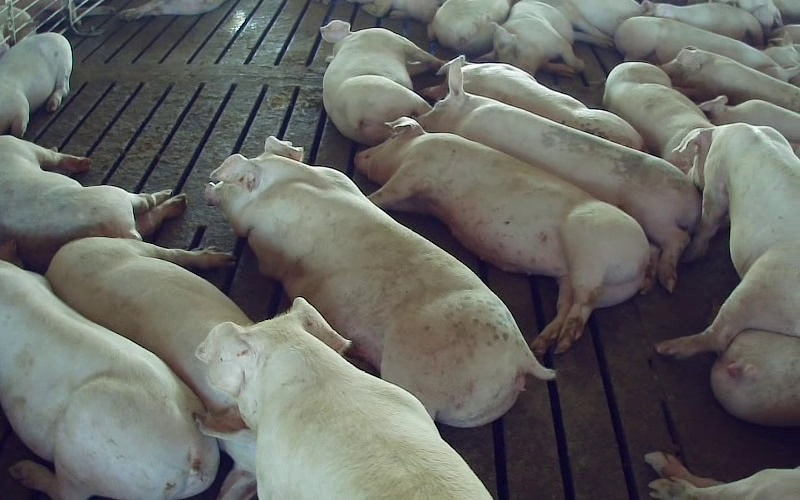pig: (207, 137, 553, 426), (356, 117, 650, 352), (419, 59, 700, 291), (197, 298, 490, 499), (46, 238, 255, 499), (657, 123, 799, 357), (462, 63, 643, 148), (321, 20, 441, 145), (603, 62, 712, 170), (614, 16, 788, 80), (479, 0, 612, 74), (661, 46, 799, 112), (0, 33, 71, 137), (699, 95, 799, 142), (428, 0, 510, 56)
